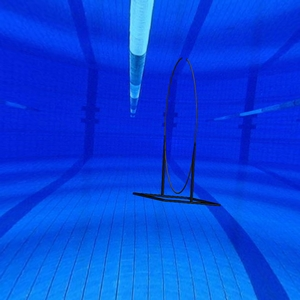circle: (132, 55, 225, 209)
